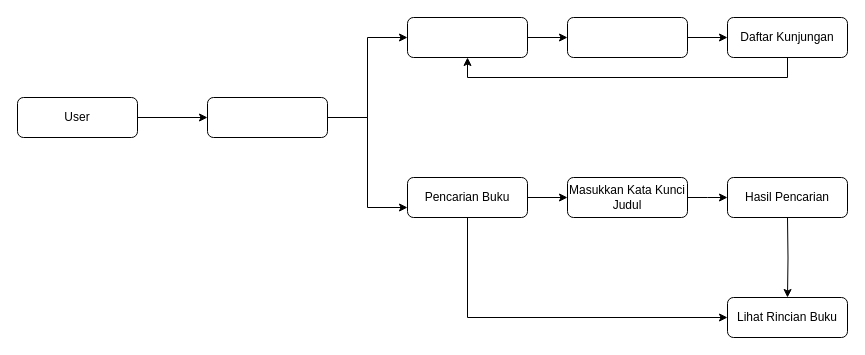
Some shapes in this 865 by 355 pixel diagram are drawn without their labels. The shapes that lost their labels are listed below. From the top down, each one's centre as x and y in pixels, then its label:
At point (467, 37): "Isi Form Pengunjung".
At point (627, 37): "Kirim".
At point (267, 117): "Mengunjungi Perpus".
